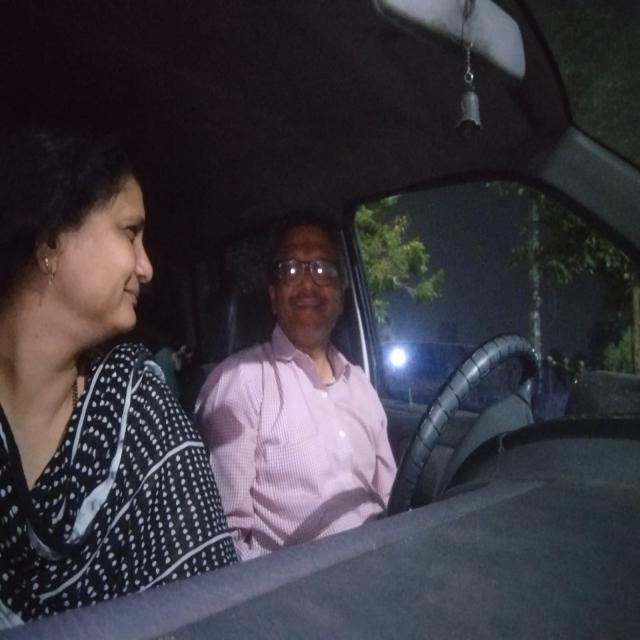LeftRight: (19, 132, 169, 346), (273, 215, 347, 348)
talking: (293, 294, 327, 317), (122, 282, 144, 310)
